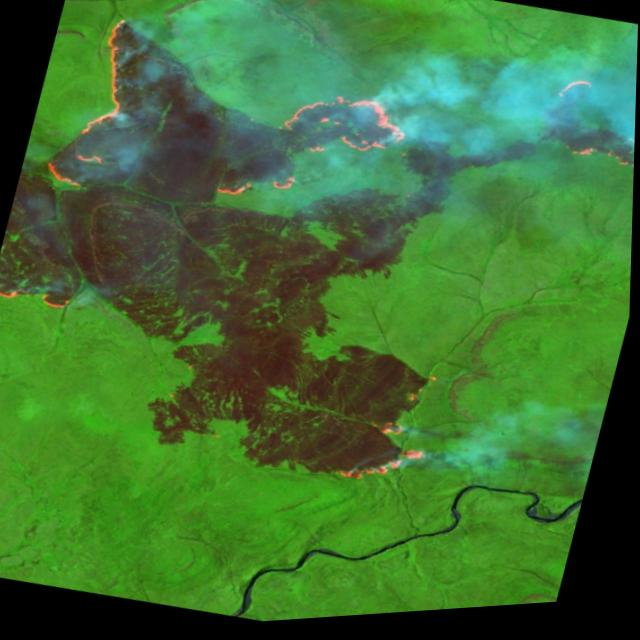fire: (38, 4, 151, 198), (333, 358, 454, 504), (270, 78, 423, 183), (211, 158, 307, 218), (559, 125, 636, 189), (0, 270, 89, 320), (546, 72, 600, 117)
